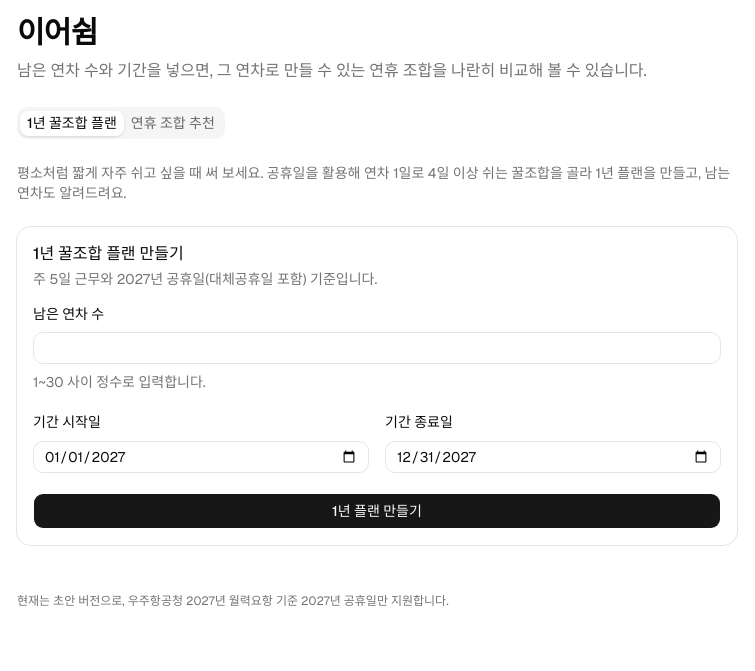
연휴 조합 추천 화면 › 연차 2일, 9/1~9/30을 넣으면 1위 조합의 기간·총 일수·연차·연차 쓰는 날·효율을 보여준다
Click the tab "연휴 조합 추천".
click(173, 123)  # box x1=124 y1=110 x2=222 y2=136
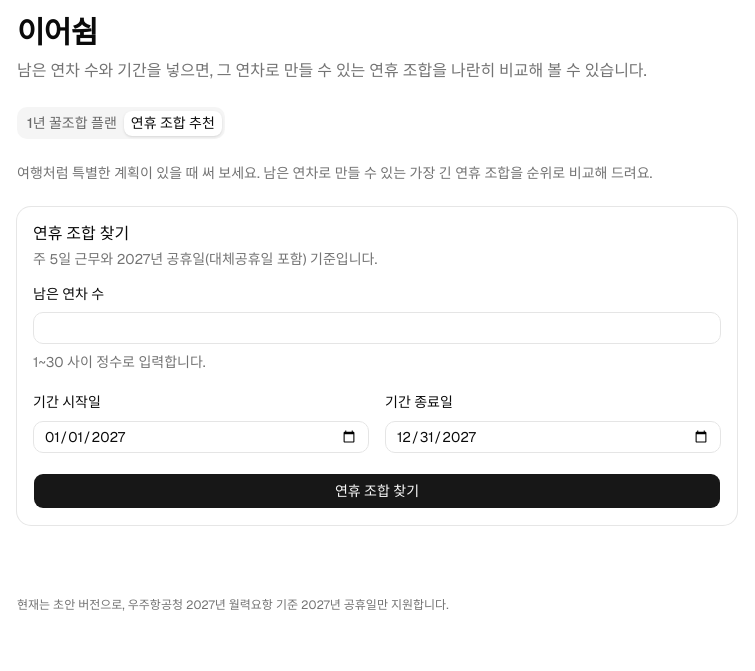
Type "2" into the field labelled "남은 연차 수".
click(377, 328); type("2")  # box x1=33 y1=312 x2=721 y2=344
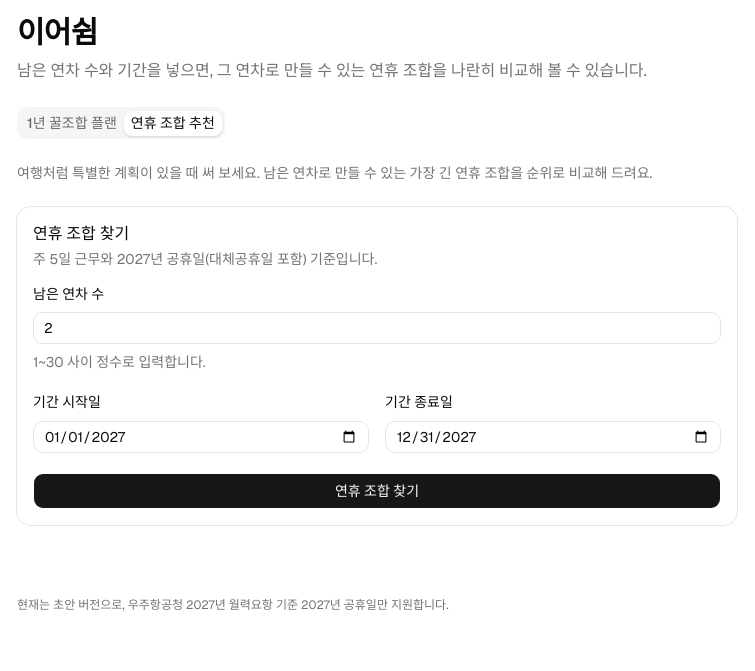
Type "2027-09-01" into the date field labelled "기간 시작일".
click(201, 436); type("2027-09-01")  # box x1=33 y1=420 x2=369 y2=452
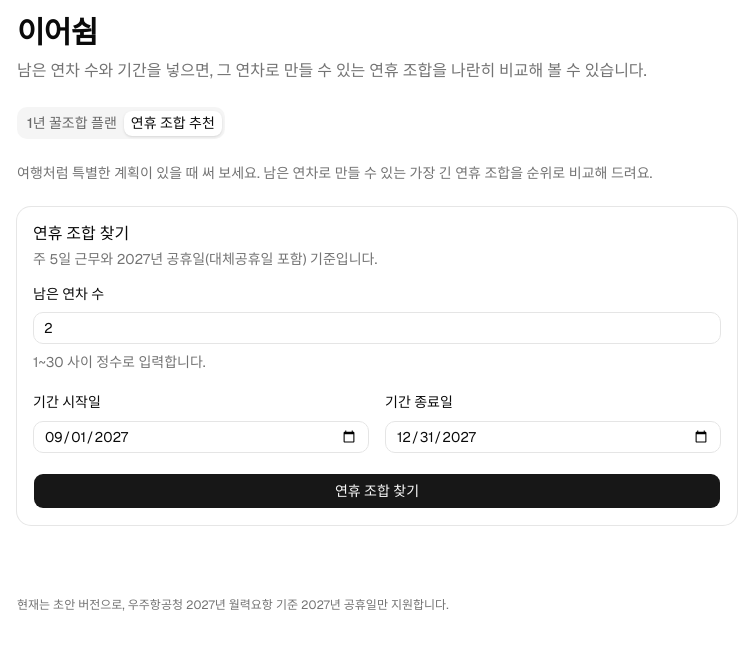
Type "2027-09-30" into the date field labelled "기간 종료일".
click(553, 436); type("2027-09-30")  # box x1=385 y1=420 x2=721 y2=452
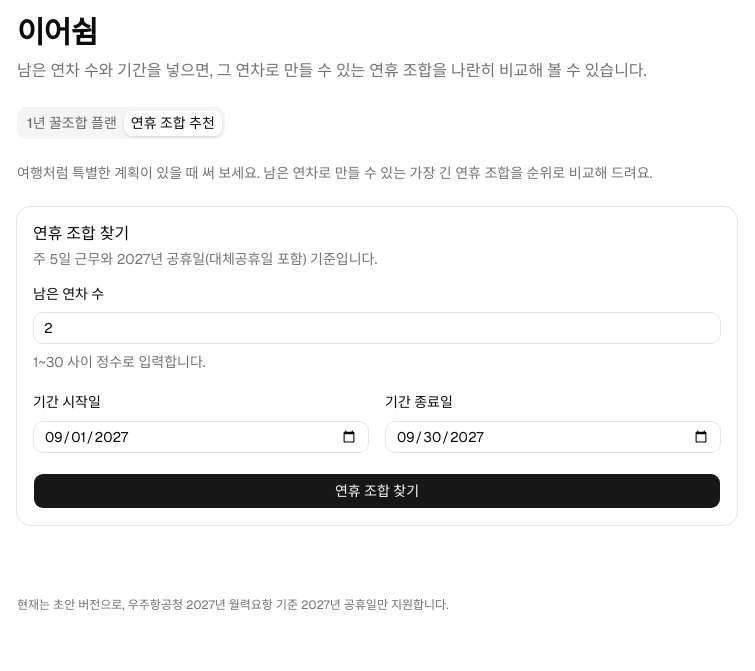
Click the button "연휴 조합 찾기".
click(377, 490)  # box x1=33 y1=472 x2=721 y2=508
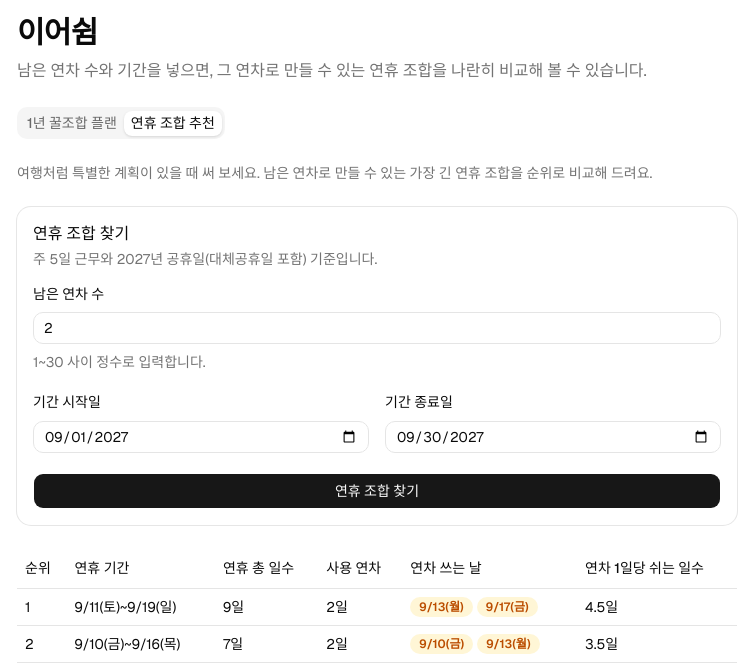
expect the cells read "1", "9/11(토)~9/19(일)", "9일", "2일", "9/13(월), 9/17(금)", "4.5일", in this order: met, box x1=17 y1=588 x2=66 y2=626; x1=66 y1=588 x2=215 y2=626; x1=215 y1=588 x2=318 y2=626; x1=318 y1=588 x2=402 y2=626; x1=402 y1=588 x2=577 y2=626; x1=577 y1=588 x2=737 y2=626
expect the number of rows is 11: met
